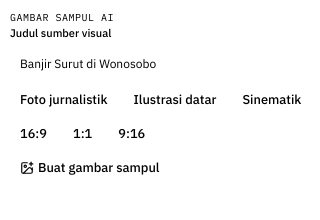
Scenario: AiCoverGenerator › menampilkan galat role=alert saat layanan gagal
Click the button "Buat gambar sampul" at x=90, y=168, box x1=10 y1=154 x2=170 y2=182
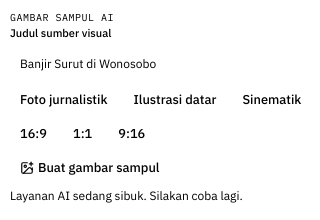
Check: the message shows "sibuk", box x1=10 y1=188 x2=243 y2=202
